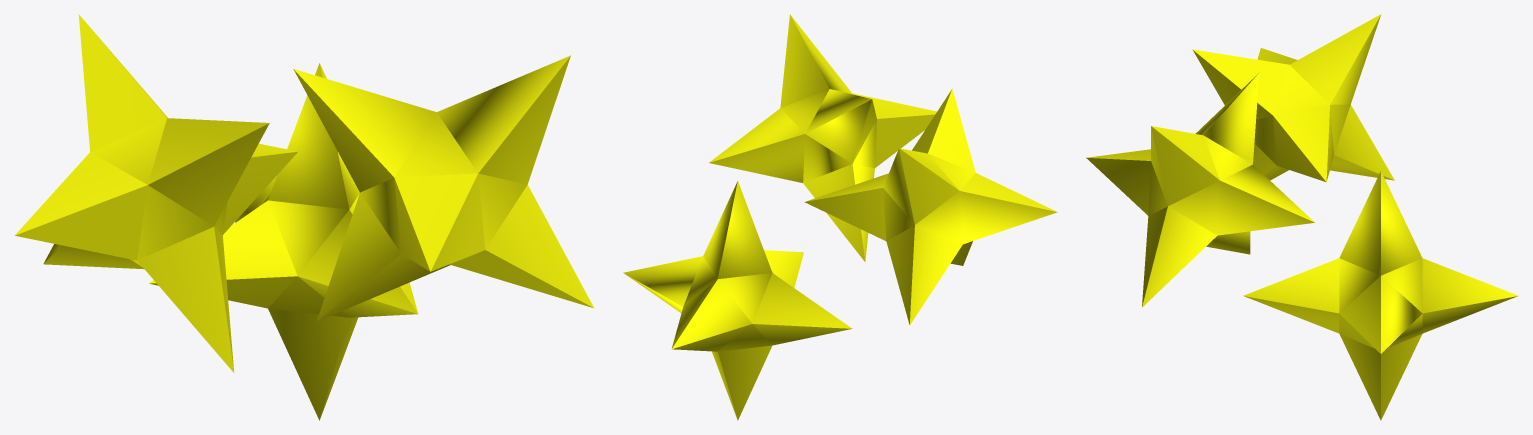
Rendered from Sparks.fbx.
3 renders of one model, left to right at view 1: azimuth 30°, elevation 25°; view 2: azimuth 150°, elevation 25°; view 3: azimuth 270°, elevation 25°, orthographic. The views are drawn at different scales.
Parts seen in each view (by area): view 1: Sphere004; view 2: Sphere004; view 3: Sphere004.
Part boxes in pixels (<box>): Sphere004: <box>15,14,593,420</box>; Sphere004: <box>623,14,1057,420</box>; Sphere004: <box>1086,14,1518,420</box>.
Size of the model in its own units: 81.75 by 64.66 by 78.05.
